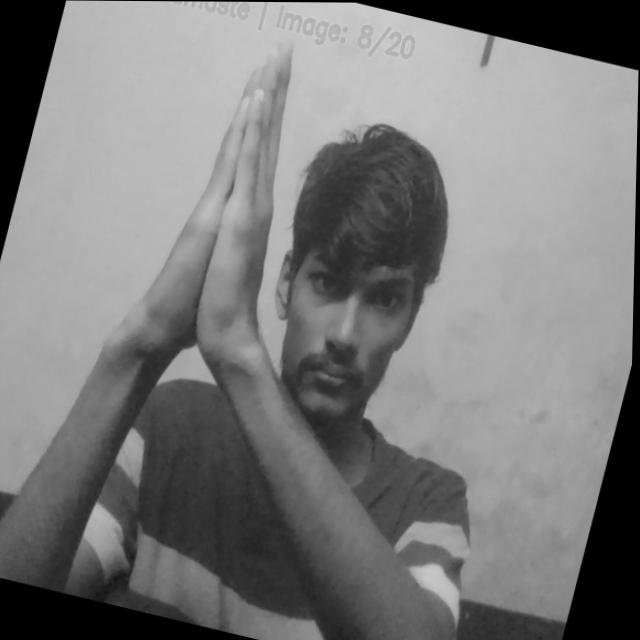Namaste: (123, 18, 332, 391)
